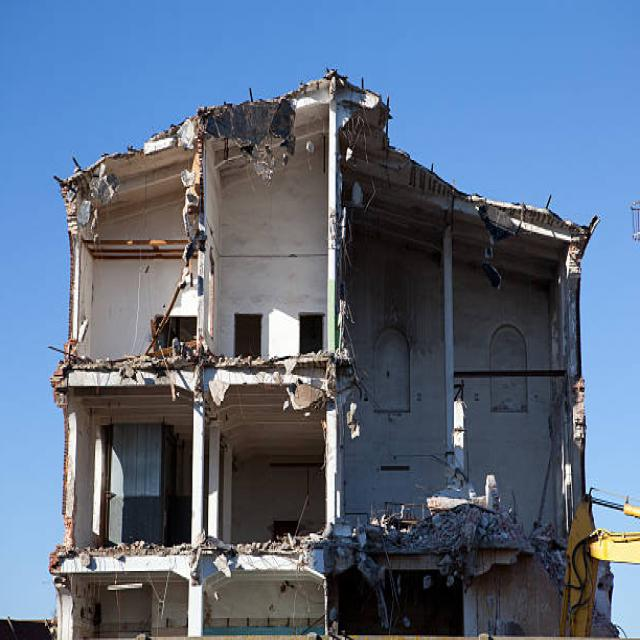Destroyed_building: (22, 4, 636, 640)
